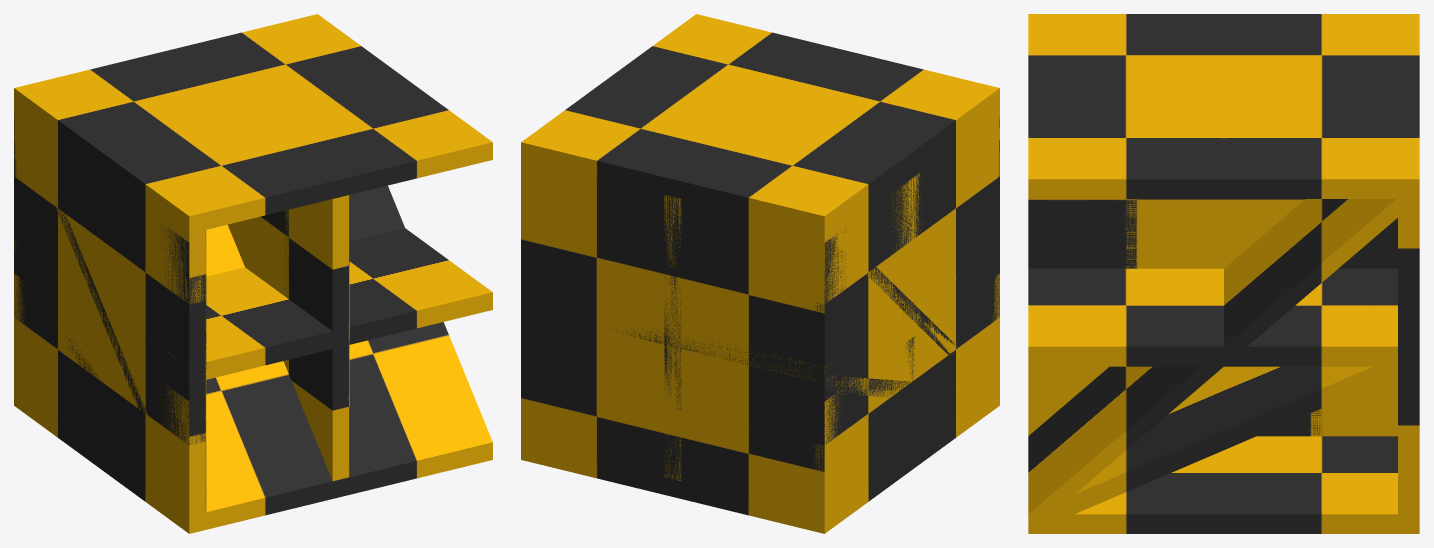
Rendered from LevelDesign.glb.
3 views of the same model, side by side, from view 1: azimuth 30°, elevation 25°; view 2: azimuth 150°, elevation 25°; view 3: azimuth 270°, elevation 25° (orthographic). The views are drawn at different scales.
Parts seen in each view (by area): view 1: Roof, WallSide, Ramp_1, FloorCentered, WallCentered, Corner, Ramp_3, FloorSide, InnerWall, Ramp_2; view 2: Corner, Roof, WallSide, FloorSide, Ramp_3, WallCentered, Ramp_2, FloorCentered; view 3: Roof, FloorCentered, FloorSide, InnerWall, Ramp_3, Ramp_2, WallCentered, Ramp_1, Corner.
Boxes of the visible parts, bbox=[...] form: Roof: bbox=[14, 14, 492, 233]; WallSide: bbox=[14, 106, 206, 515]; Ramp_1: bbox=[180, 322, 492, 533]; FloorCentered: bbox=[14, 228, 492, 379]; WallCentered: bbox=[235, 195, 349, 481]; Corner: bbox=[14, 106, 206, 516]; Ramp_3: bbox=[14, 88, 404, 532]; FloorSide: bbox=[14, 388, 492, 533]; InnerWall: bbox=[228, 201, 322, 456]; Ramp_2: bbox=[66, 336, 241, 533]; Corner: bbox=[521, 106, 999, 516]; Roof: bbox=[521, 14, 999, 233]; WallSide: bbox=[808, 106, 999, 515]; FloorSide: bbox=[521, 388, 999, 533]; Ramp_3: bbox=[521, 142, 998, 403]; WallCentered: bbox=[664, 195, 681, 480]; Ramp_2: bbox=[815, 376, 999, 405]; FloorCentered: bbox=[603, 302, 915, 378]; Roof: bbox=[1028, 14, 1419, 198]; FloorCentered: bbox=[1028, 268, 1397, 366]; FloorSide: bbox=[1028, 436, 1419, 533]; InnerWall: bbox=[1050, 199, 1397, 436]; Ramp_3: bbox=[1028, 199, 1397, 530]; Ramp_2: bbox=[1028, 356, 1397, 533]; WallCentered: bbox=[1028, 199, 1397, 436]; Ramp_1: bbox=[1028, 273, 1397, 532]; Corner: bbox=[1398, 199, 1419, 514].
Bounding box in the file's own units: 4.5 × 4.5 × 4.5.
1 material, 1 textured.
